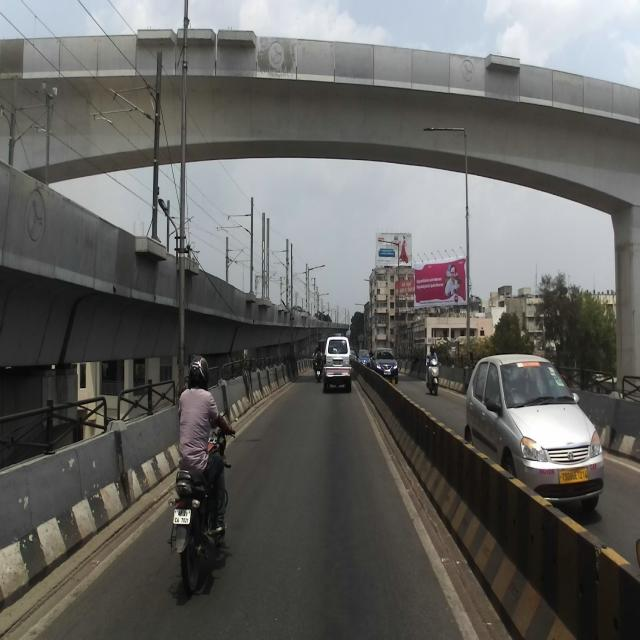car: (464, 352, 604, 510), (323, 334, 352, 393), (371, 347, 398, 383)
motorcycle: (167, 404, 235, 592)
scooter: (426, 355, 440, 397)
